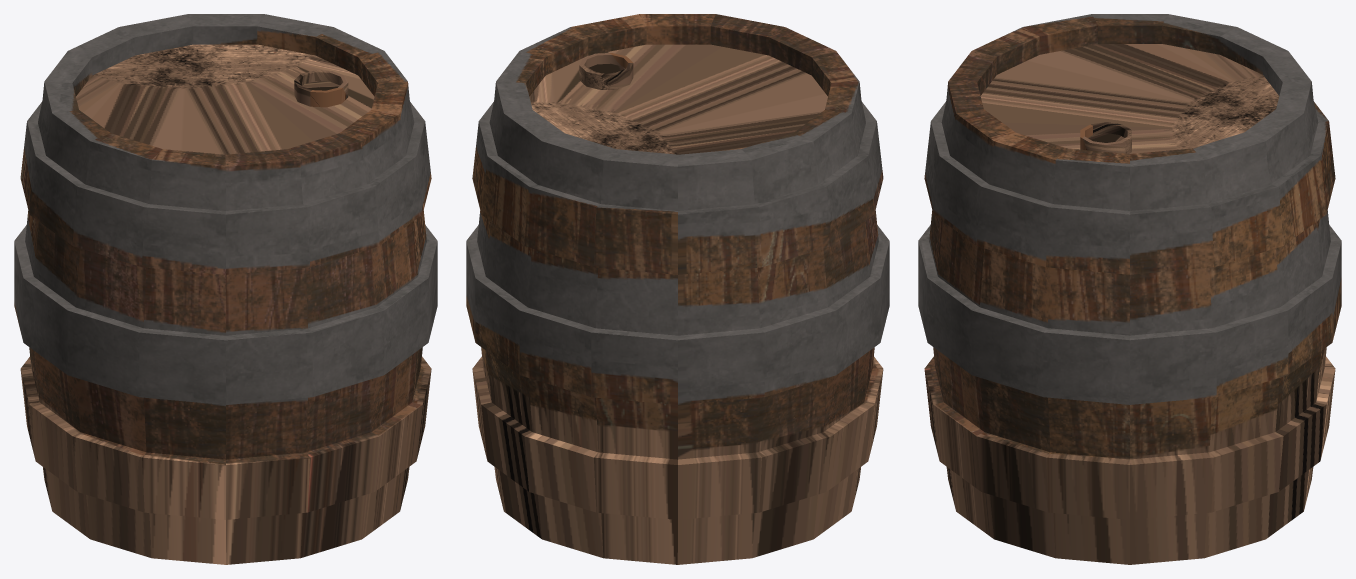
Rendered from Barrel.fbx.
The picture shows the model from 3 angles, left to right: view 1: azimuth 30°, elevation 25°; view 2: azimuth 150°, elevation 25°; view 3: azimuth 270°, elevation 25°; orthographic projection.
Parts seen in each view (by area): view 1: Barrel; view 2: Barrel; view 3: Barrel.
Boxes of the visible parts, x1,y1,x2,y2 form: Barrel: (14,14,437,564); Barrel: (466,14,889,564); Barrel: (918,14,1341,564).
Size of the model in its own units: 0.9815 by 1.02 by 0.9869.
1 material, 1 textured.
